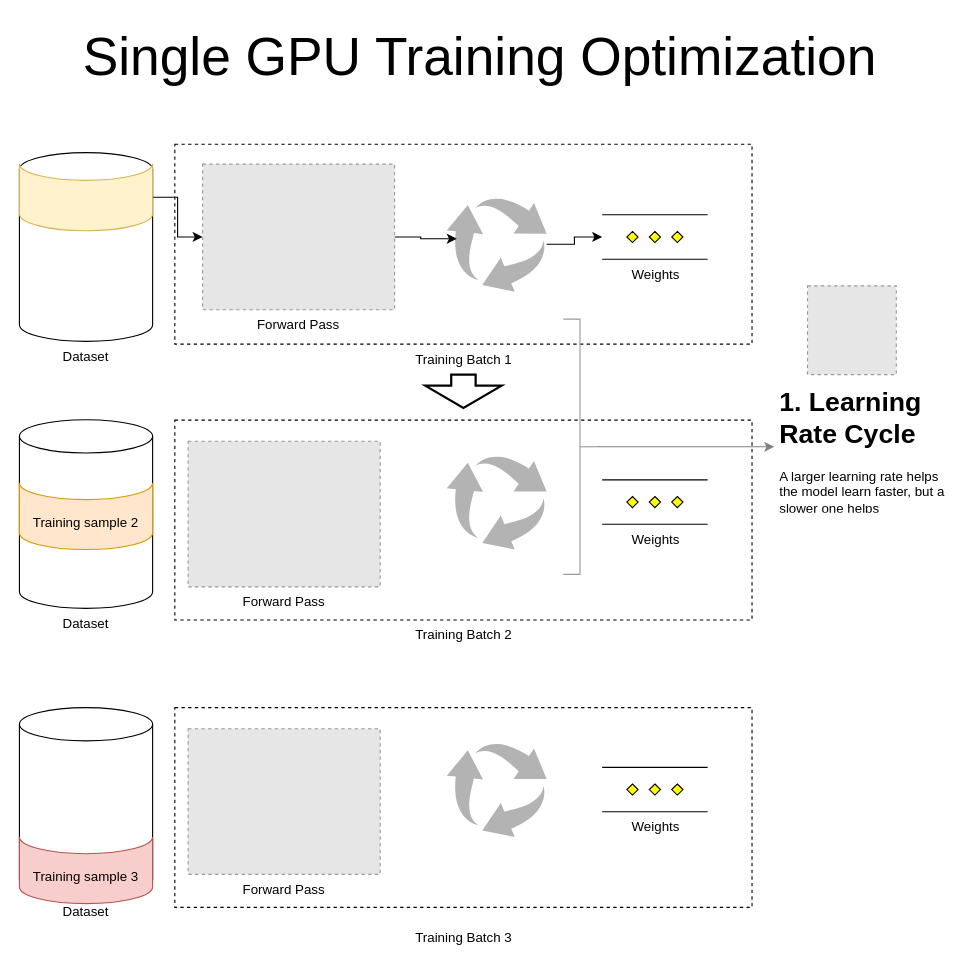
Image size: 971x966. Some labels were removed from this diagram. Grey dashed boxes stand in for pictures. Each missing label, with the centre of its shape:
"Optimization Cycle Learning Rate = 0.6" goes at [496,501].
"Optimization Cycle Learning Rate = 0.7" goes at [496,243].
"Optimization Cycle Learning Rate = 0.8" goes at [496,789].
"Training sample" goes at [85,197].
